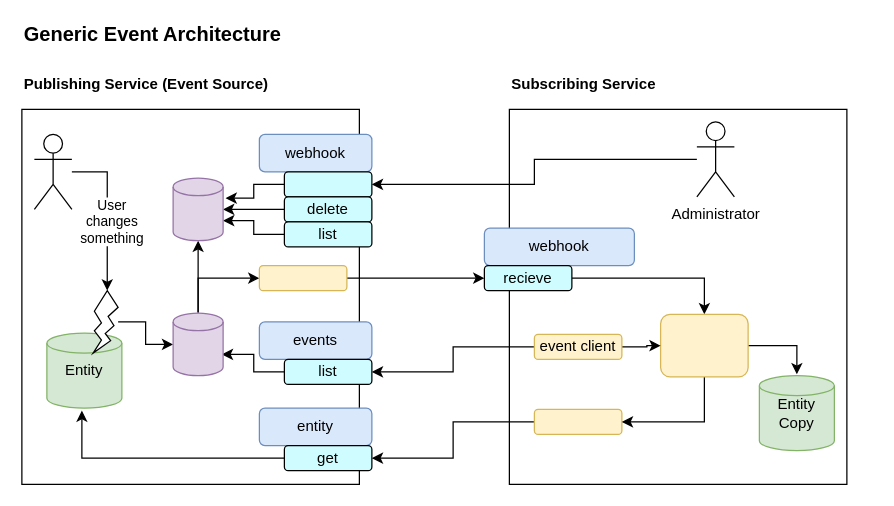
The diagram is 894 pixels wide and 506 high, and some of its shapes have lost their labels. The shapes that lost their labels are listed below. From the top down, each one's centre as x and y in pixels, then its label:
At [52,171]: "User".
At [327,184]: "create".
At [197,209]: "Web Hooks".
At [302,277]: "notifier".
At [197,344]: "Event Log".
At [703,345]: "Event Processor".
At [577,421]: "entity client".
